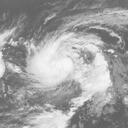cyclone: (25, 29, 113, 97)
